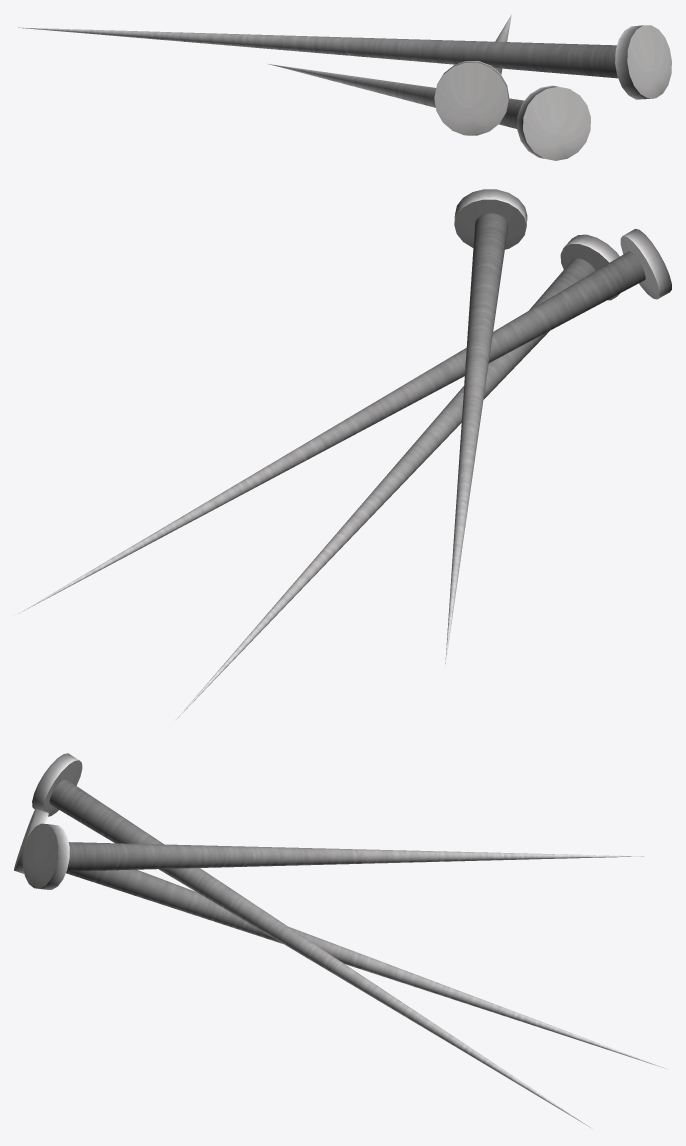
Rendered from Nail.fbx.
3 views of the same model, one above another, from view 1: azimuth 30°, elevation 25°; view 2: azimuth 150°, elevation 25°; view 3: azimuth 270°, elevation 25° (orthographic). The views are drawn at different scales.
Visible parts, largest first — view 1: Cone001, Cylinder003, Cylinder002, Cylinder001, Cone002; view 2: Cone003, Cone001, Cone002, Cylinder001, Cylinder003, Cylinder002; view 3: Cone003, Cone001, Cone002, Cylinder001, Cylinder003.
Part boxes in pixels (box(x1,y1,x2,y2)): Cone001: box(18, 27, 617, 78); Cylinder003: box(434, 61, 509, 135); Cylinder002: box(517, 85, 590, 160); Cylinder001: box(615, 25, 671, 99); Cone002: box(268, 64, 524, 128); Cone003: box(17, 251, 645, 614); Cone001: box(445, 213, 508, 667); Cone002: box(174, 258, 595, 721); Cylinder001: box(454, 189, 527, 249); Cylinder003: box(620, 229, 671, 299); Cylinder002: box(560, 234, 619, 300); Cone003: box(49, 779, 593, 1129); Cone001: box(66, 842, 643, 871); Cone002: box(66, 869, 668, 1069); Cylinder001: box(23, 823, 69, 889); Cylinder003: box(32, 753, 82, 816).
Bounding box in the file's own units: 14.45 × 8.43 × 19.75.
